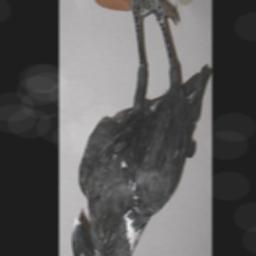Crow: (69, 0, 210, 256)
